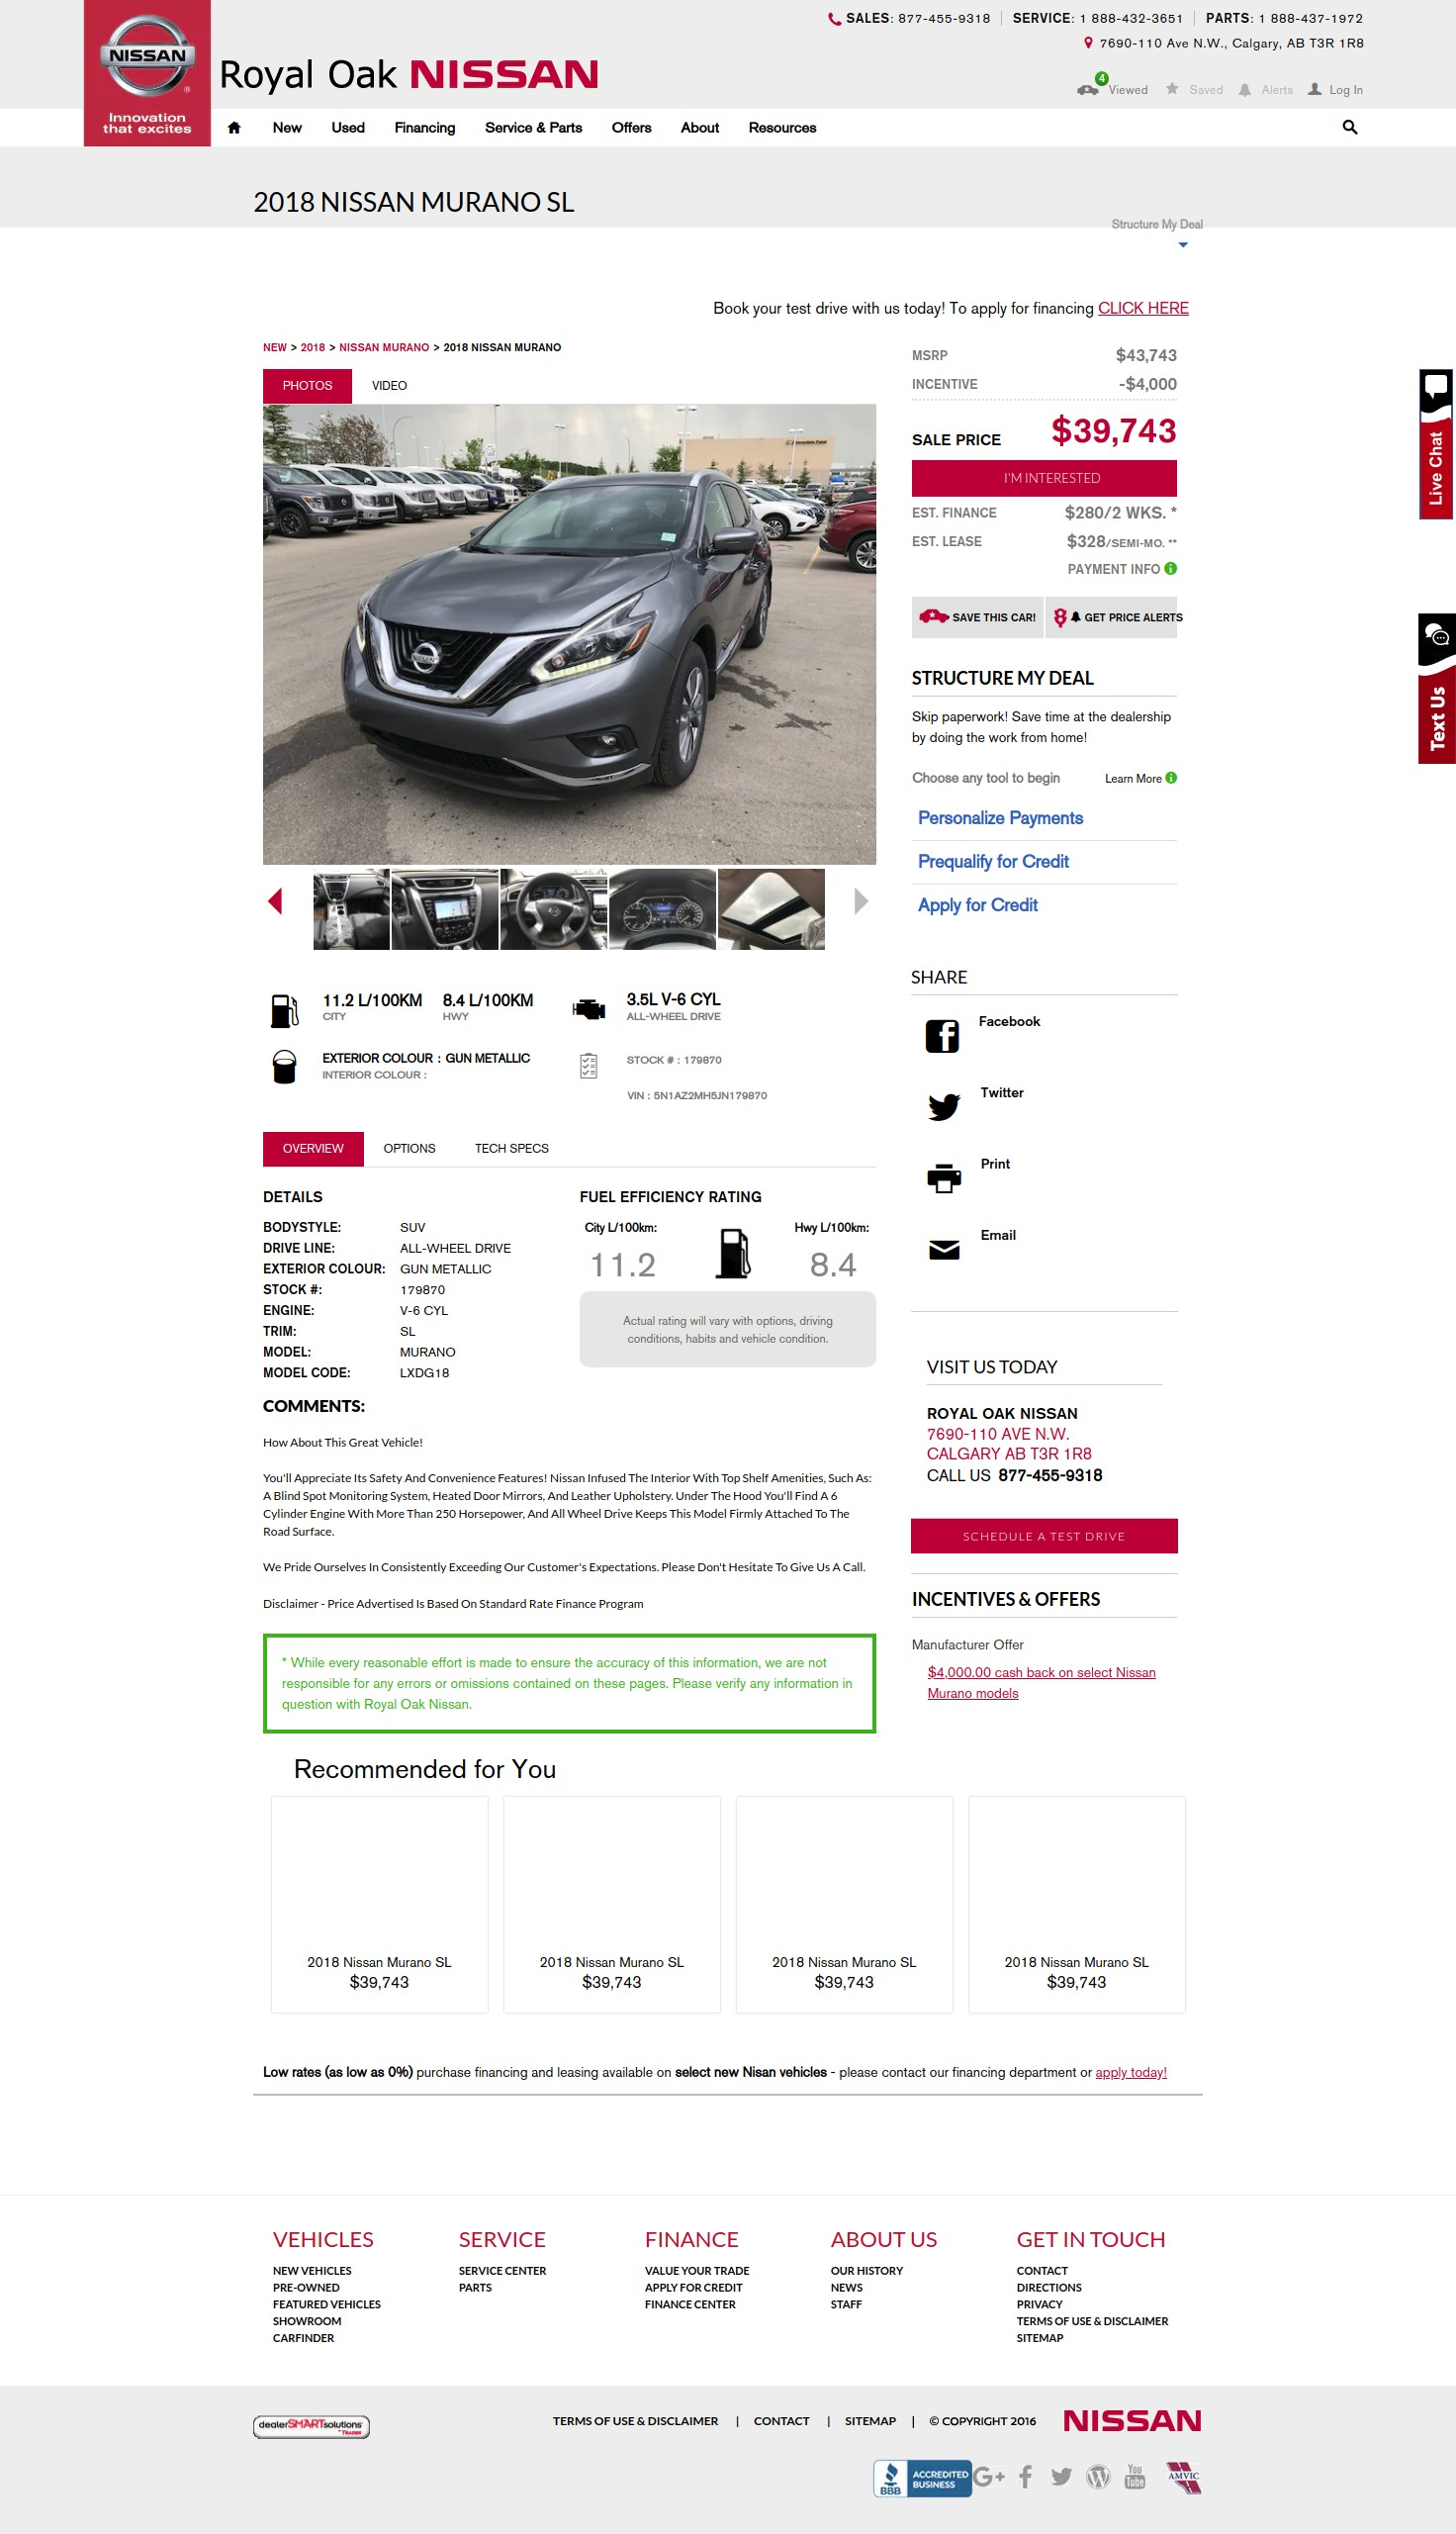car: (854, 888, 870, 915)
